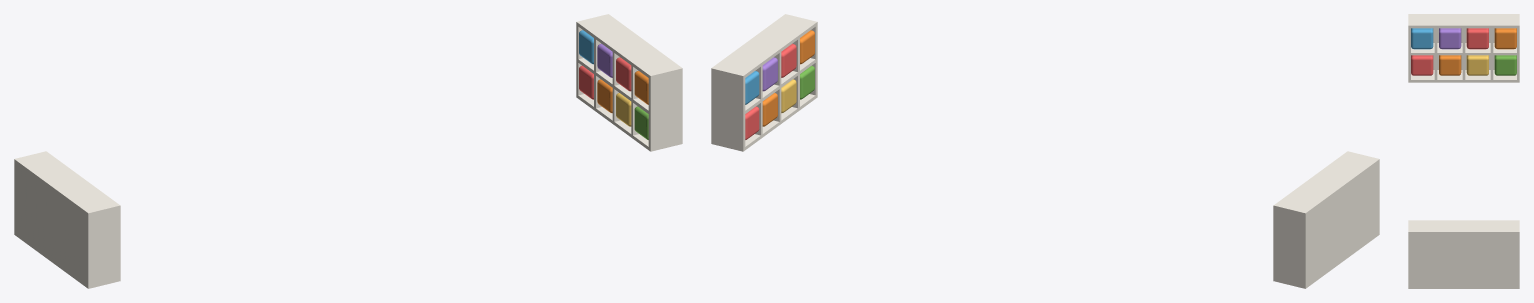
Rendered from kcubby.glb.
The picture shows the model from 3 angles, left to right: view 1: azimuth 30°, elevation 25°; view 2: azimuth 150°, elevation 25°; view 3: azimuth 270°, elevation 25°; orthographic projection. The views are drawn at different scales.
Bounding box in the file's own units: 7.4 × 0.9 × 1.6.
